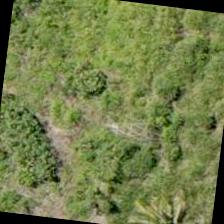Kelapa_Sawit: (124, 178, 216, 223)
